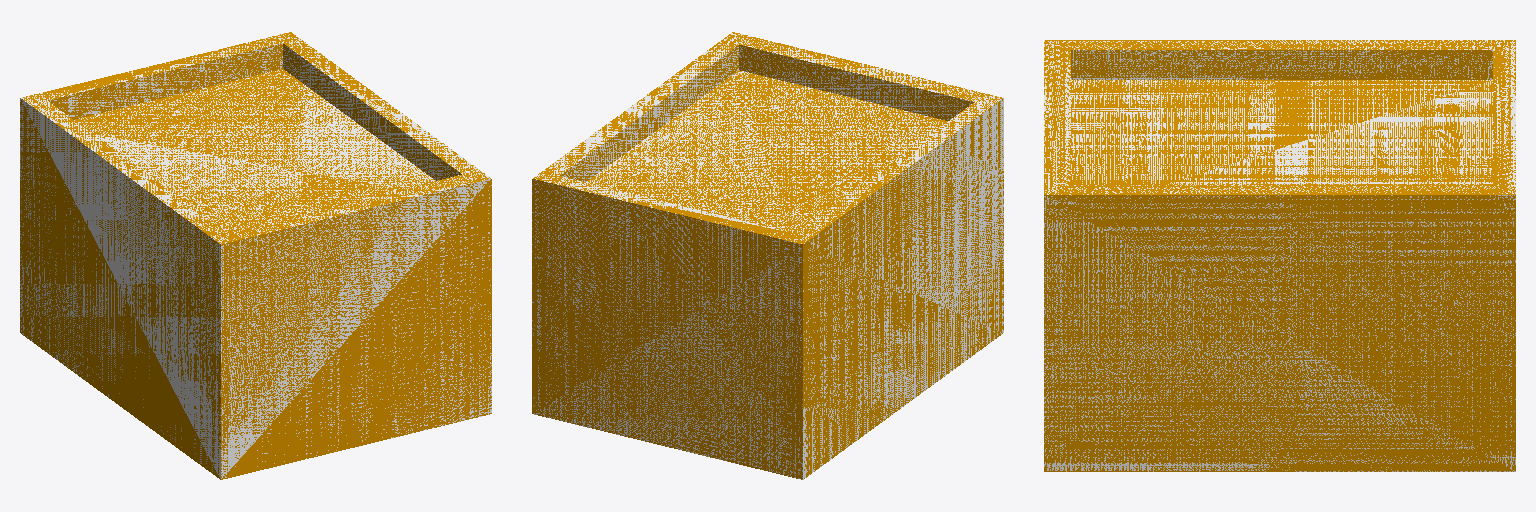
robot.urdf — my_object:
<?xml version="1.0" ?> 
<robot name="my_object" static="true">
  <link name="base_link">
  <inertial>
    <mass value="0.05" />
    <origin xyz="0 0 0.0" />
    <inertia ixx="1.0" ixy="0.0" ixz="0.0" iyy="1.0" iyz="0.0" izz="1.0"/>
  </inertial>
  <visual>
   <origin xyz="0 0 0.0" rpy="0 0 0" />
   <geometry>
     <mesh filename="package://ensta_gazebo_objects/Media/models/corrogated_box.dae" scale="1.5 1.5 1"/>
     
   </geometry>
  </visual>
  <collision>
   <origin xyz="0 0 0.0" rpy="0 0 0" />
   <geometry>
     <mesh filename="package://ensta_gazebo_objects/Media/models/corrogated_box.dae" scale="1.5 1.5 1"/>>
     
   </geometry>
  </collision>     
  </link>


<gazebo>
	<static>false</static>
</gazebo>
</robot>

--- Facts derived from the render (not from the file) ---
Views: 3 orthographic renders of the robot side by side, from view 1: azimuth 30°, elevation 25°; view 2: azimuth 150°, elevation 25°; view 3: azimuth 270°, elevation 25°.
Model my_object with 1 links and 0 joints (none), rooted at base_link, posed all joints at 0.
Visible links, largest first — view 1: base_link; view 2: base_link; view 3: base_link.
Link boxes in pixels (bbox=[...]): base_link: bbox=[20, 32, 491, 479]; base_link: bbox=[532, 32, 1003, 479]; base_link: bbox=[1044, 40, 1515, 471].
Bounding box of the posed robot: 0.4204 × 0.5393 × 0.3496 m (x, y, z).
1 mesh visuals loaded from 1 distinct referenced files (1 Collada DAE).